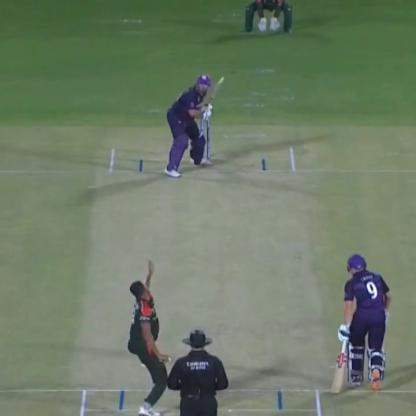bat: (327, 330, 348, 393), (202, 70, 228, 114)
pitch: (62, 140, 330, 415)
